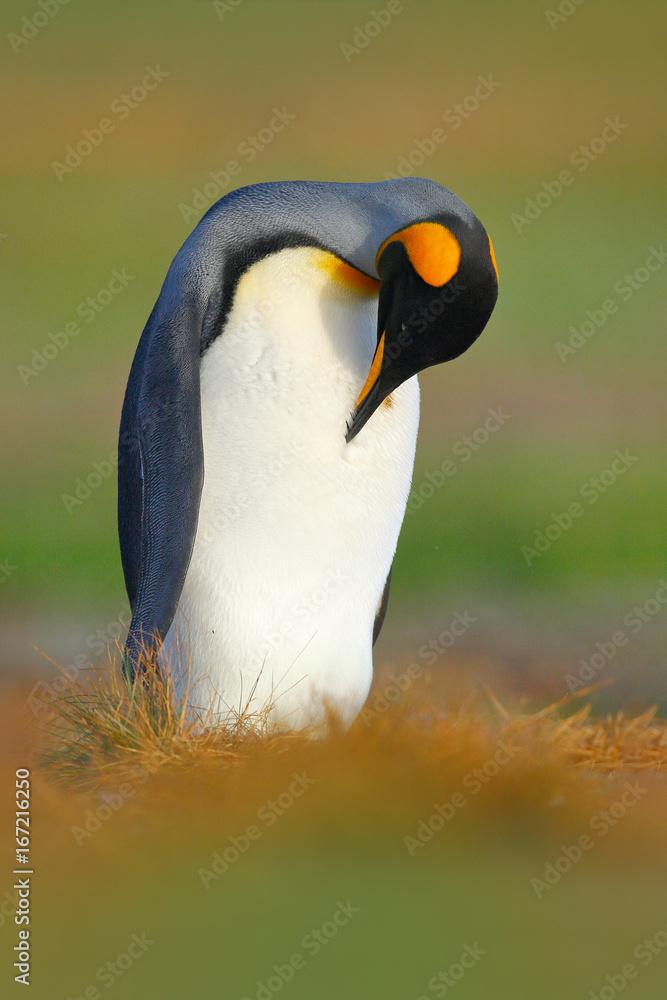king: (45, 150, 541, 825)
